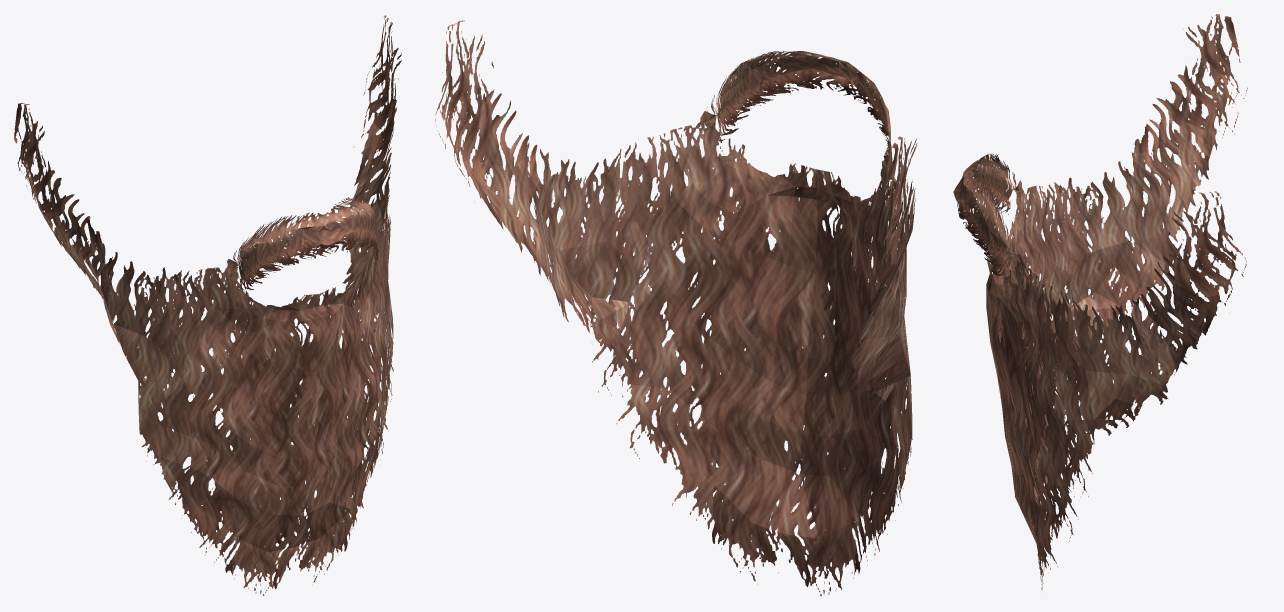
Rendered from mhw_elvs_scruffy_beard1.glb.
3 views of the same model, side by side, from view 1: azimuth 30°, elevation 25°; view 2: azimuth 150°, elevation 25°; view 3: azimuth 270°, elevation 25° (orthographic). The views are drawn at different scales.
Visible parts, largest first — view 1: mhw_elvs_scruffy_beard1; view 2: mhw_elvs_scruffy_beard1; view 3: mhw_elvs_scruffy_beard1.
Boxes of the visible parts, left/top/right/bottom form: mhw_elvs_scruffy_beard1: left=14, top=15, right=401, bottom=595; mhw_elvs_scruffy_beard1: left=435, top=20, right=917, bottom=596; mhw_elvs_scruffy_beard1: left=953, top=14, right=1247, bottom=589.
Size of the model in its own units: 0.1419 by 0.1757 by 0.1045.
Materials: 1 (1 with a texture image).
